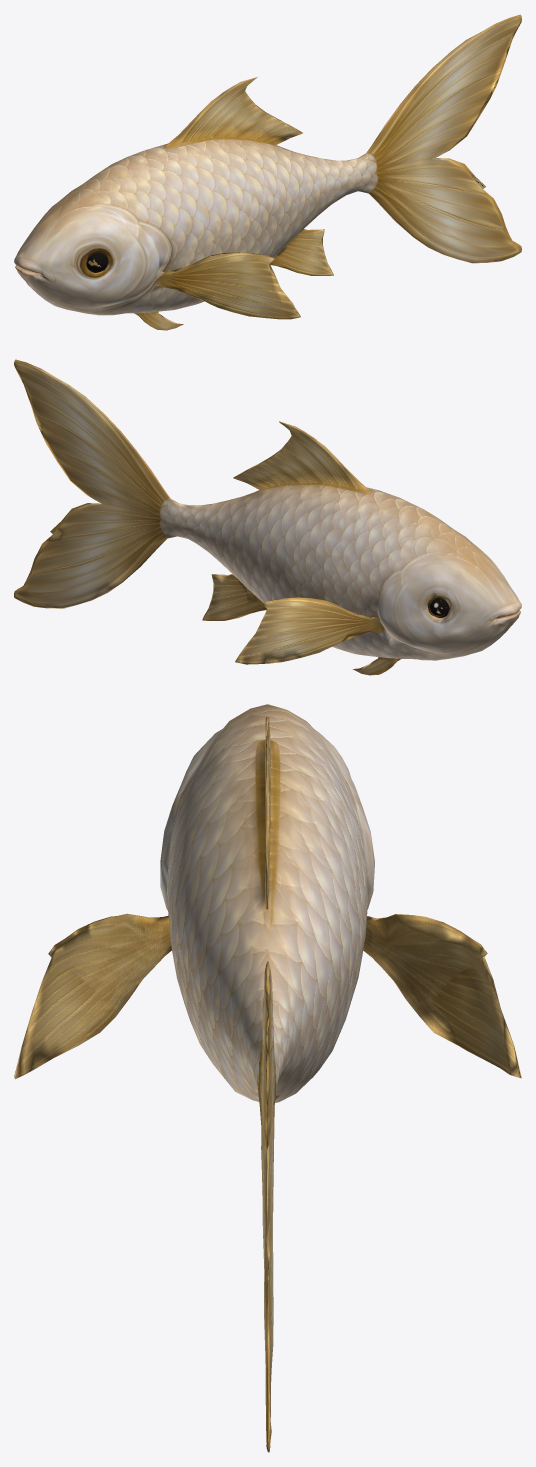
The picture shows the model from 3 angles, top to bottom: view 1: azimuth 30°, elevation 25°; view 2: azimuth 150°, elevation 25°; view 3: azimuth 270°, elevation 25°; orthographic projection. The views are drawn at different scales.
Parts seen in each view (by area): view 1: Mesh_0; view 2: Mesh_0; view 3: Mesh_0.
Boxes of the visible parts, x1,y1,x2,y2 form: Mesh_0: (14, 14, 521, 330); Mesh_0: (14, 359, 521, 675); Mesh_0: (14, 704, 521, 1452).
Bounding box in the file's own units: 2 × 0.9277 × 0.8984.
Materials: 1 (1 with a texture image).
